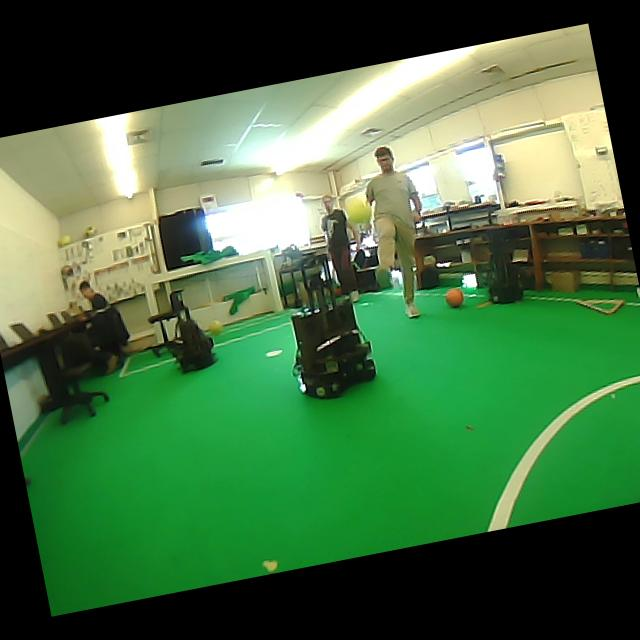ball: (344, 192, 372, 224), (445, 288, 463, 307), (209, 320, 223, 335), (58, 234, 73, 247), (85, 226, 96, 236)
goal: (264, 250, 283, 311)
robot: (291, 257, 375, 399), (170, 290, 213, 372), (488, 230, 523, 304)
